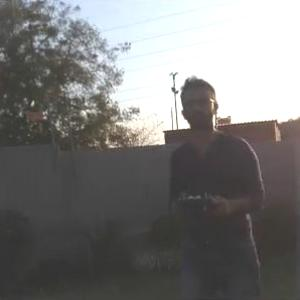follow: (159, 69, 271, 299)
